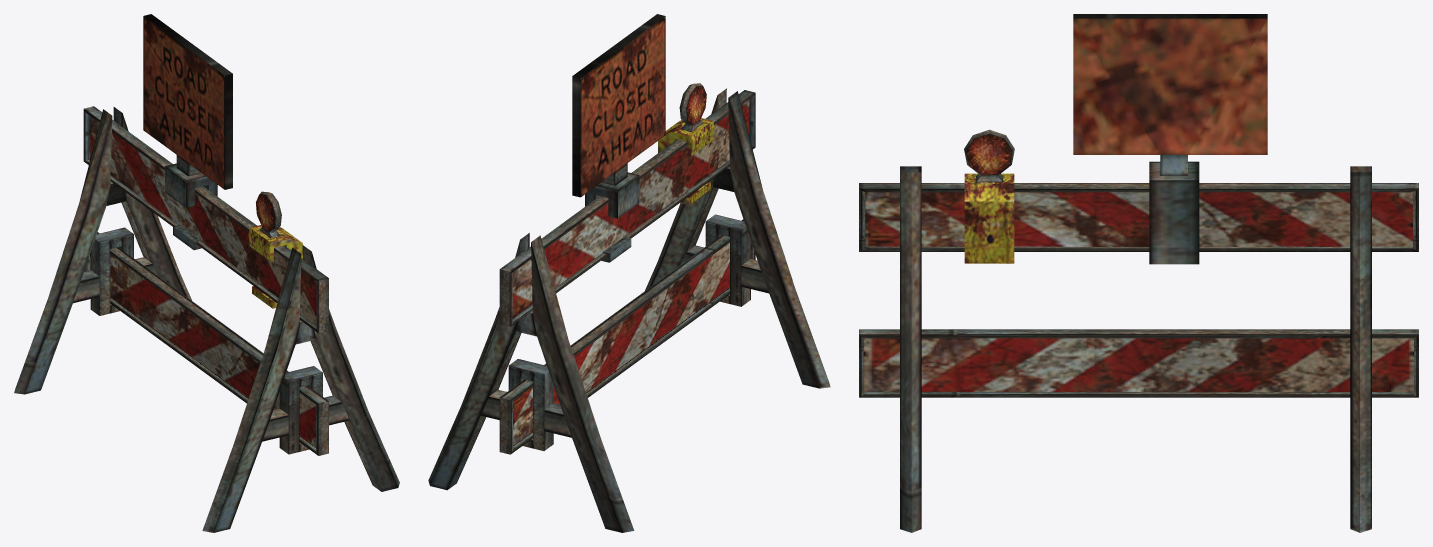
The model's file is Model_Barricade_01.fbx.
3 renders of one model, left to right at view 1: azimuth 30°, elevation 25°; view 2: azimuth 150°, elevation 25°; view 3: azimuth 270°, elevation 25°, orthographic. The views are drawn at different scales.
Visible parts, largest first — view 1: Baricade; view 2: Baricade; view 3: Baricade.
Part boxes in pixels (x1,y1,x2,y2): Baricade: (14,14,399,532); Baricade: (428,14,830,532); Baricade: (859,14,1418,532).
Size of the model in its own units: 96.78 by 179 by 199.
